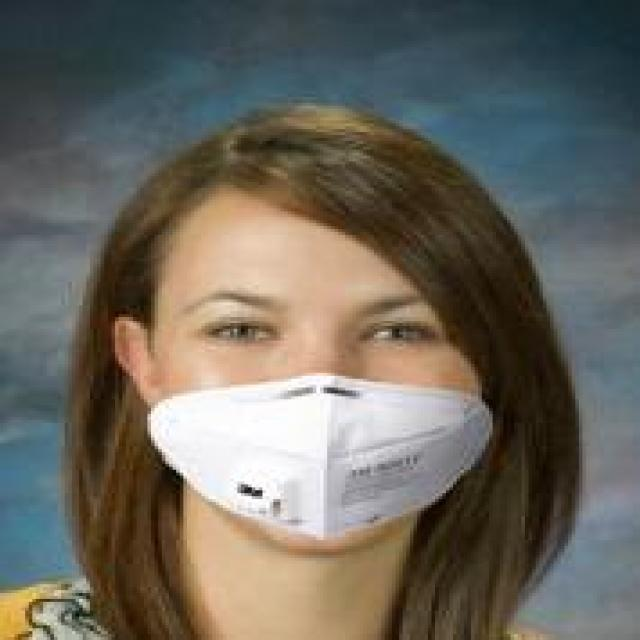mask: (76, 50, 546, 552)
